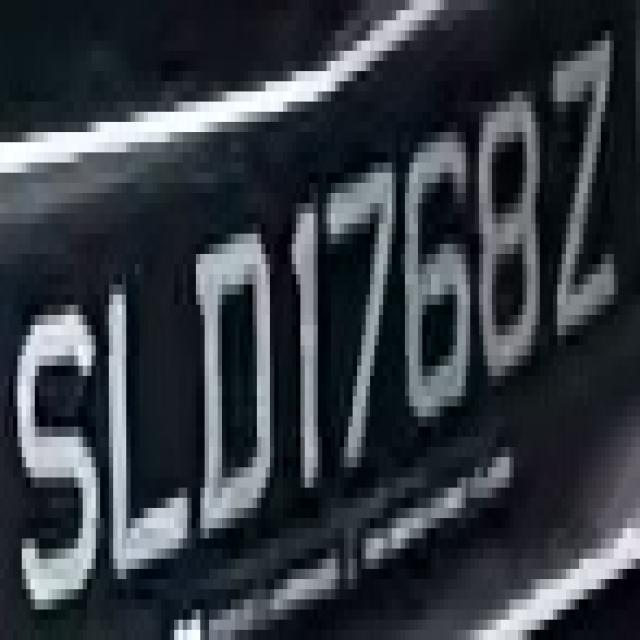1: (279, 224, 331, 579)
6: (388, 142, 474, 447)
7: (318, 142, 405, 498)
8: (470, 71, 540, 406)
D: (187, 203, 283, 559)
L: (96, 254, 200, 599)
S: (13, 264, 96, 630)
Z: (531, 10, 627, 366)
